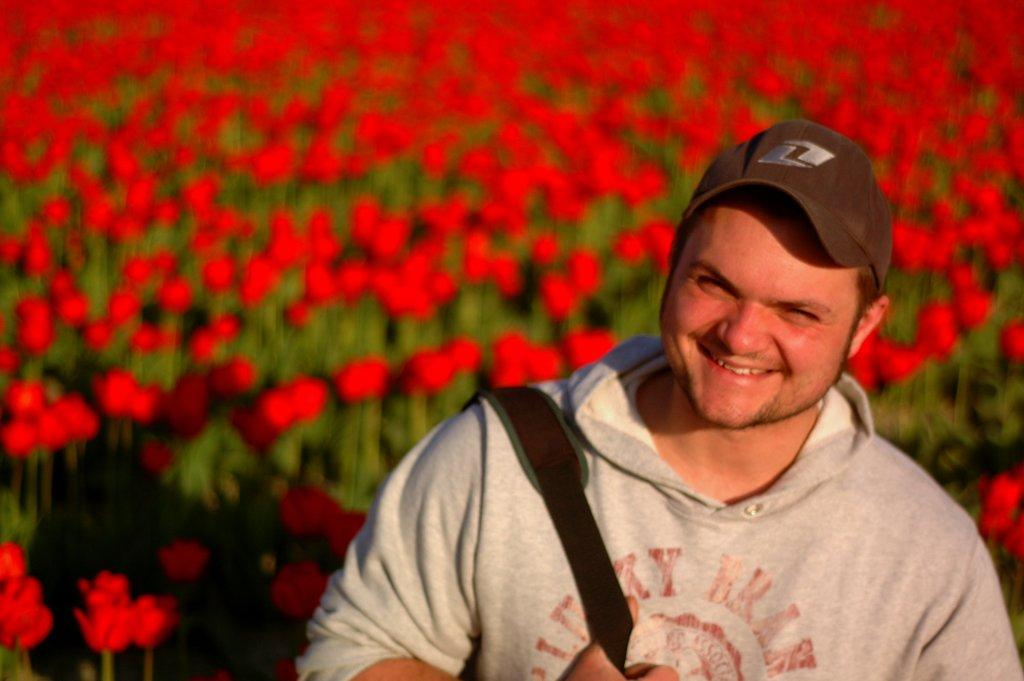Hat: (679, 119, 886, 293)
